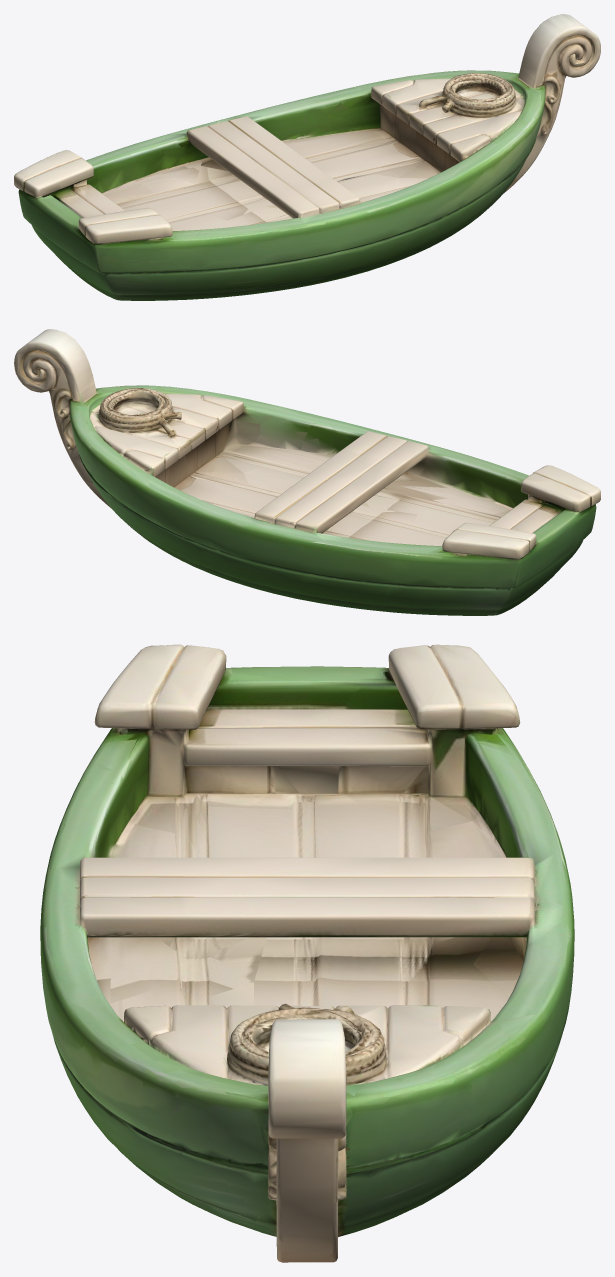
File: perahu-hijau.glb
The picture shows the model from 3 angles, top to bottom: view 1: azimuth 30°, elevation 25°; view 2: azimuth 150°, elevation 25°; view 3: azimuth 270°, elevation 25°; orthographic projection. The views are drawn at different scales.
Visible parts, largest first — view 1: node_0; view 2: node_0; view 3: node_0.
Part boxes in pixels (x1,y1,x2,y2): node_0: [14, 14, 600, 300]; node_0: [14, 329, 600, 615]; node_0: [40, 644, 574, 1262].
Bounding box in the file's own units: 1.16 × 0.3494 × 0.4983.
1 material, 1 textured.
